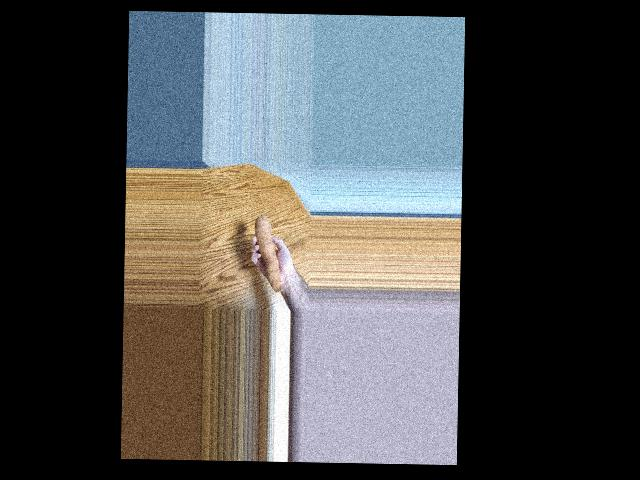sweet_potato: (252, 213, 281, 289)
